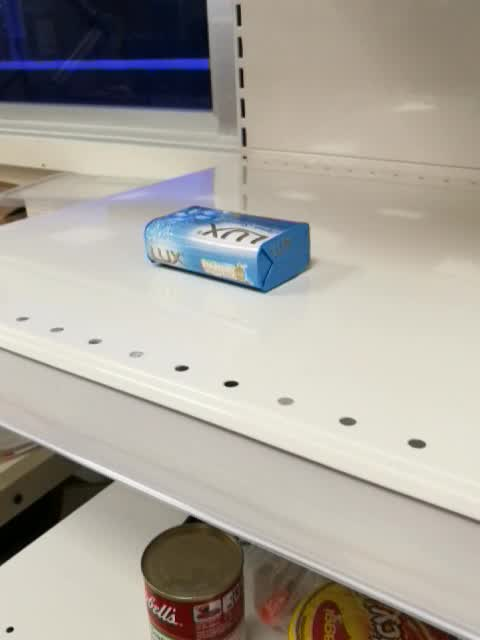soap: (141, 204, 312, 295)
